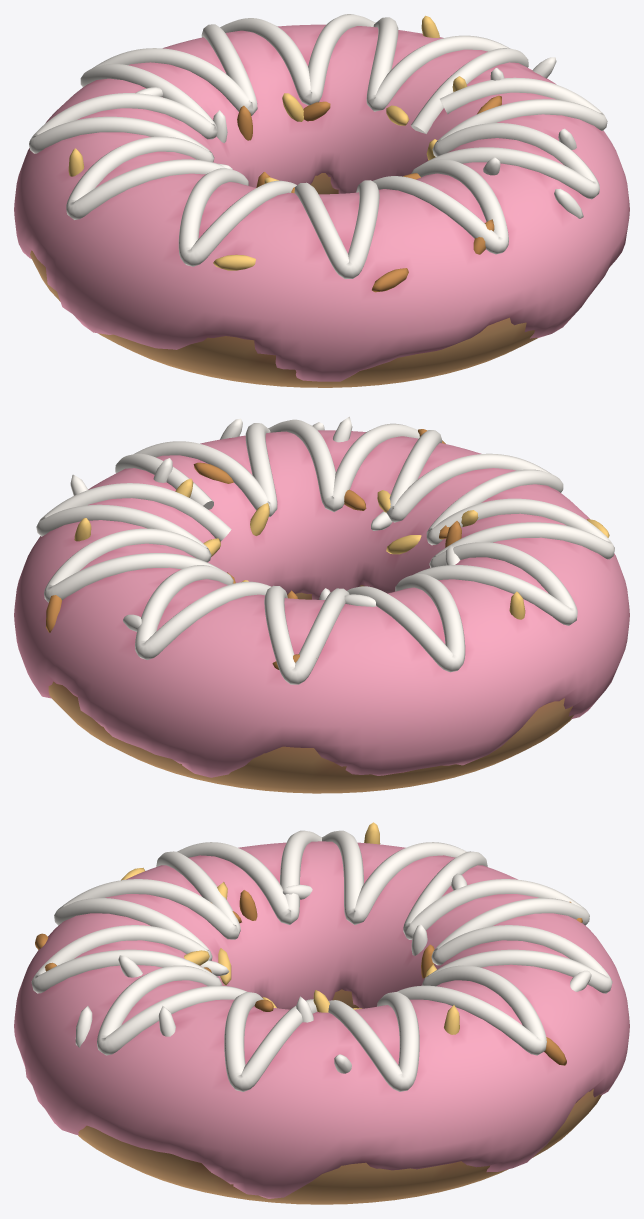
Rendered from donut.glb.
The picture shows the model from 3 angles, top to bottom: view 1: azimuth 30°, elevation 25°; view 2: azimuth 150°, elevation 25°; view 3: azimuth 270°, elevation 25°; orthographic projection.
Visible parts, largest first — view 1: glaze, cfffaf3, dough, cffd27a, cc98a4b; view 2: glaze, cfffaf3, dough, cffd27a, cc98a4b; view 3: glaze, cfffaf3, dough, cffd27a, cc98a4b.
Boxes of the visible parts, x1,y1,x2,y2 form: glaze: (14,24,629,381); cfffaf3: (29,14,607,278); dough: (30,173,537,387); cffd27a: (68,15,467,270); cc98a4b: (237,95,501,292); glaze: (14,430,629,777); cfffaf3: (36,416,614,684); dough: (48,585,573,793); cffd27a: (74,478,609,619); cc98a4b: (46,429,461,669); glaze: (14,841,629,1198); cfffaf3: (31,830,612,1091); dough: (78,989,601,1204); cffd27a: (121,822,459,1034); cc98a4b: (35,890,582,1065).
Size of the model in its own units: 0.6754 by 0.2337 by 0.6754.
